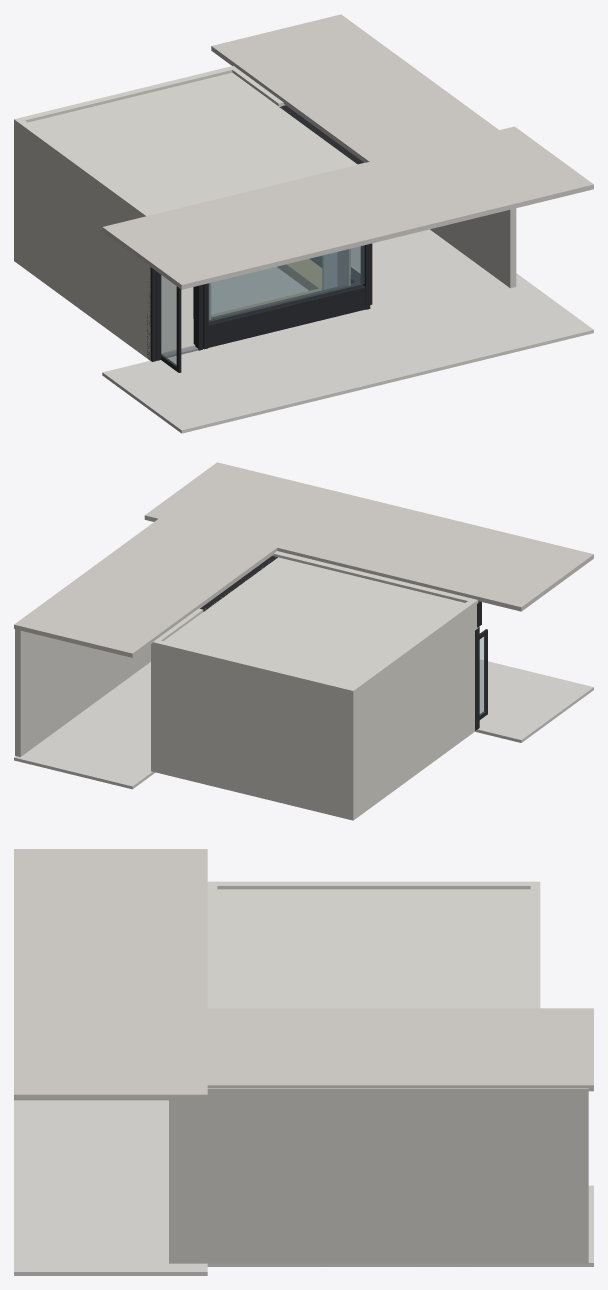
Rendered from advanced-photo-blockout.glb.
3 views of the same model, one above another, from view 1: azimuth 30°, elevation 25°; view 2: azimuth 150°, elevation 25°; view 3: azimuth 270°, elevation 25° (orthographic). The views are drawn at different scales.
Visible parts, largest first — view 1: AP_ArcadeCeiling_Front, AP_ArcadeFloor_Front, AP_InteriorCeiling, AP_ArcadeCeiling_Return, AP_LeftWall, AP_ArcadeFloor_Return, AP_ExteriorGlass_Main, AP_DisplayCabinet_Front_GlassFront, AP_MainDisplayPlinth, AP_InteriorFloor, AP_ArcadeOppositeBoundary, AP_BackWall (+7 smaller); view 2: AP_ArcadeCeiling_Front, AP_BackWall, AP_InteriorCeiling, AP_ArcadeCeiling_Return, AP_LeftWall, AP_ArcadeOppositeBoundary, AP_ArcadeFloor_Return, AP_ArcadeFloor_Front, AP_FrontHeadWall, AP_RightRearWall, AP_MainPost_Left, AP_Fascia_Return; view 3: AP_ArcadeOppositeBoundary, AP_ArcadeCeiling_Front, AP_InteriorCeiling, AP_ArcadeCeiling_Return, AP_ArcadeFloor_Front, AP_LeftWall, AP_ArcadeFloor_Return, AP_BackWall, AP_FrontHeadWall.
Part boxes in pixels (<box>): AP_ArcadeCeiling_Front: <box>102,126,593,289</box>; AP_ArcadeFloor_Front: <box>102,273,593,433</box>; AP_InteriorCeiling: <box>28,72,357,214</box>; AP_ArcadeCeiling_Return: <box>211,14,516,174</box>; AP_LeftWall: <box>16,118,152,360</box>; AP_ArcadeFloor_Return: <box>351,229,516,320</box>; AP_ExteriorGlass_Main: <box>209,245,364,321</box>; AP_DisplayCabinet_Front_GlassFront: <box>212,250,347,318</box>; AP_MainDisplayPlinth: <box>208,282,365,347</box>; AP_InteriorFloor: <box>161,267,308,354</box>; AP_ArcadeOppositeBoundary: <box>430,208,516,288</box>; AP_BackWall: <box>14,66,236,263</box>; AP_ArcadeCeiling_Front: <box>144,462,593,611</box>; AP_BackWall: <box>151,639,356,820</box>; AP_InteriorCeiling: <box>164,557,464,686</box>; AP_ArcadeCeiling_Return: <box>14,506,283,657</box>; AP_LeftWall: <box>347,598,478,820</box>; AP_ArcadeOppositeBoundary: <box>15,629,150,756</box>; AP_ArcadeFloor_Return: <box>14,662,155,789</box>; AP_ArcadeFloor_Front: <box>475,659,593,742</box>; AP_FrontHeadWall: <box>272,551,478,604</box>; AP_RightRearWall: <box>151,608,203,772</box>; AP_MainPost_Left: <box>475,627,479,730</box>; AP_Fascia_Return: <box>200,556,277,611</box>; AP_ArcadeOppositeBoundary: <box>169,1088,588,1263</box>; AP_ArcadeCeiling_Front: <box>14,849,207,1100</box>; AP_InteriorCeiling: <box>217,889,530,1008</box>; AP_ArcadeCeiling_Return: <box>163,1008,593,1091</box>; AP_ArcadeFloor_Front: <box>14,1100,207,1275</box>; AP_LeftWall: <box>217,881,538,889</box>; AP_ArcadeFloor_Return: <box>163,1185,593,1266</box>; AP_BackWall: <box>530,881,540,1008</box>; AP_FrontHeadWall: <box>207,881,217,1008</box>.
Size of the model in its own units: 10.8 by 3.72 by 10.78.
